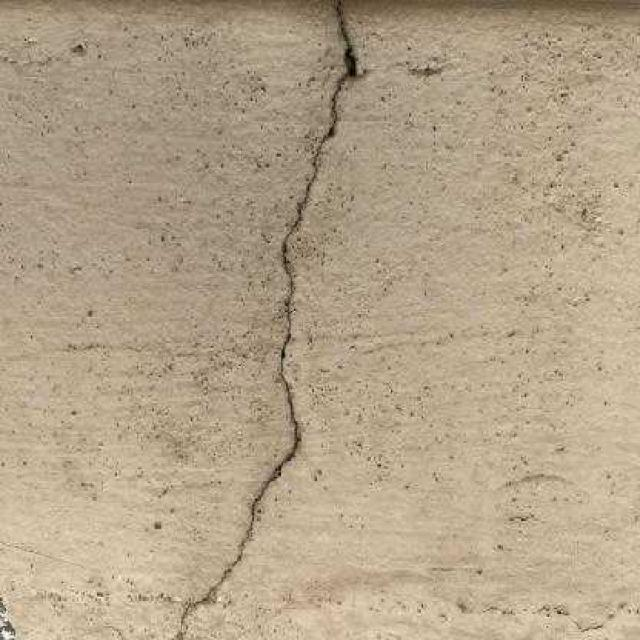D00: (179, 0, 356, 640)
